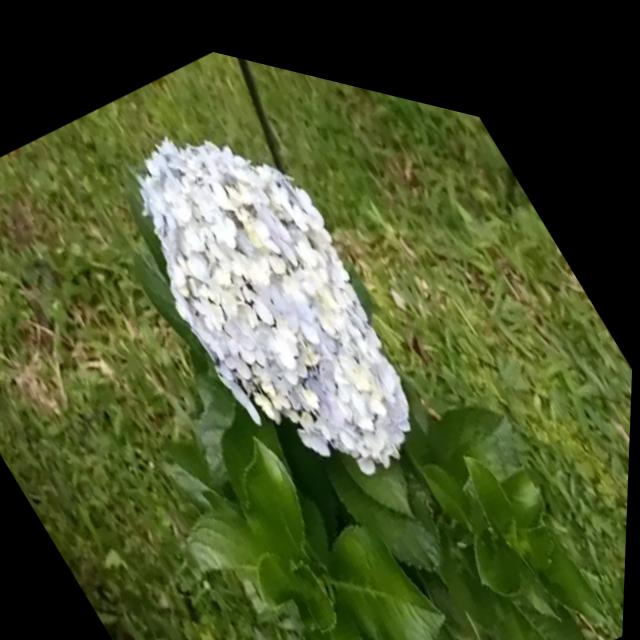Flower: (78, 40, 471, 531)
